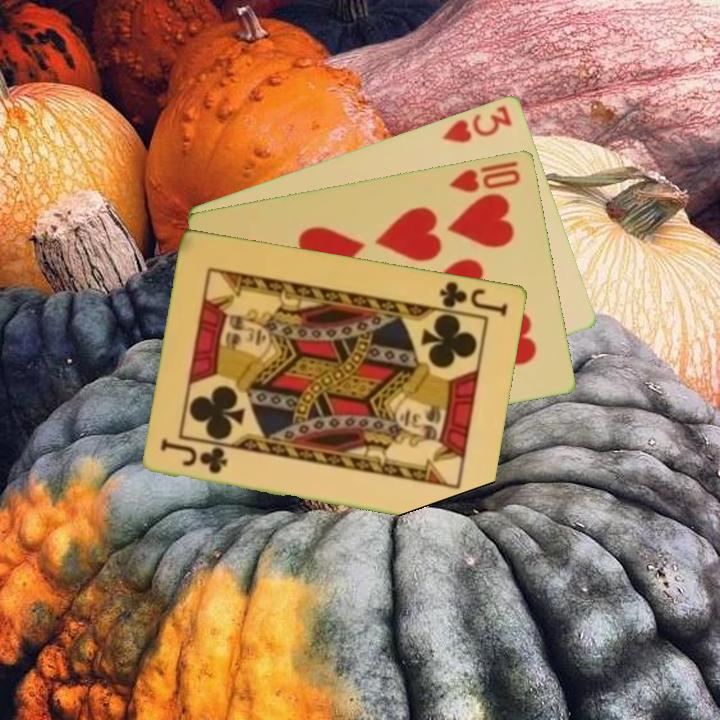10h: (446, 157, 524, 195)
3h: (439, 101, 515, 146)
Jc: (437, 277, 511, 319), (157, 436, 231, 476)
